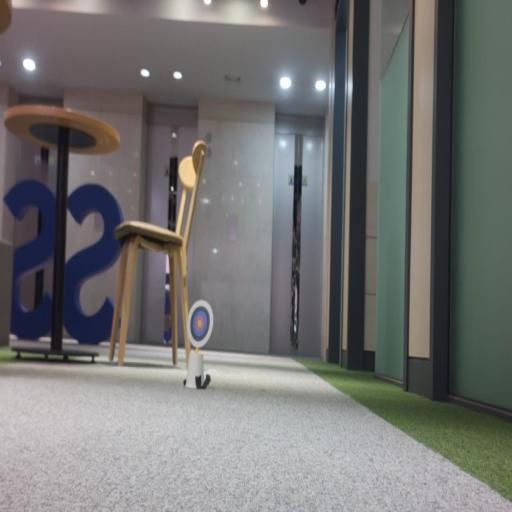target: (187, 299, 213, 349)
